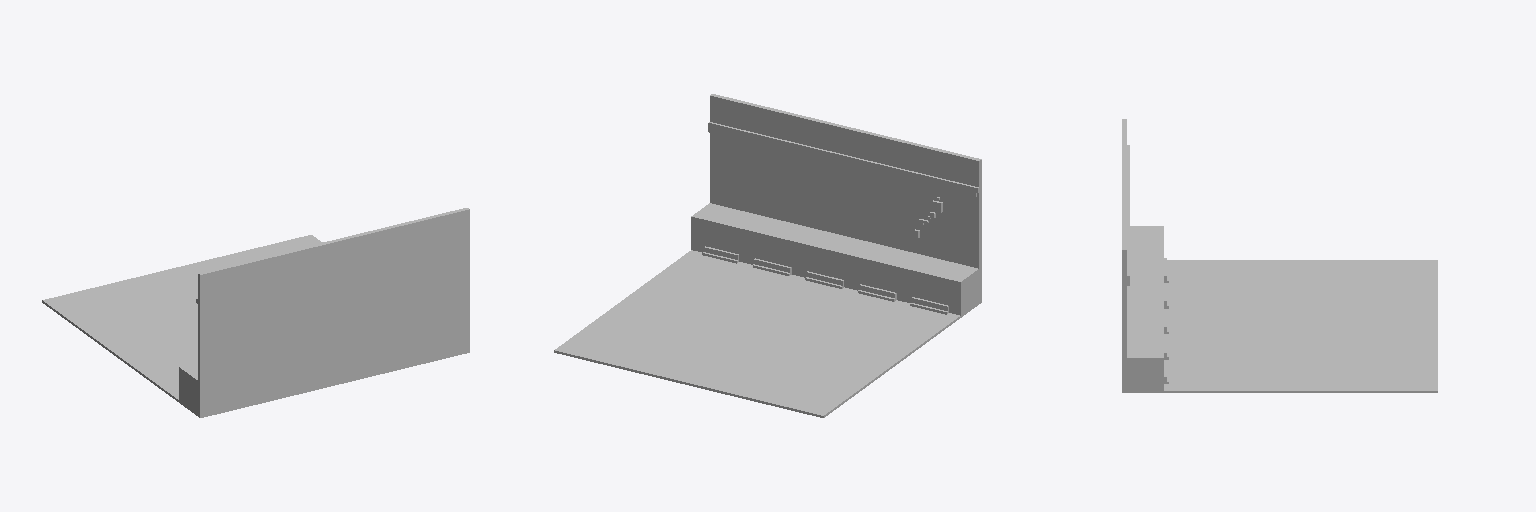
File: Tunnel.obj
3 renders of one model, left to right at view 1: azimuth 30°, elevation 25°; view 2: azimuth 150°, elevation 25°; view 3: azimuth 270°, elevation 25°, orthographic.
Parts seen in each view (by area): view 1: object 1; view 2: object 1; view 3: object 1.
Boxes of the visible parts, x1=… form: object 1: x1=42, y1=208, x2=469, y2=417; object 1: x1=554, y1=94, x2=981, y2=417; object 1: x1=1122, y1=119, x2=1437, y2=392.
Bounding box in the file's own units: 11.8 × 6 × 12.